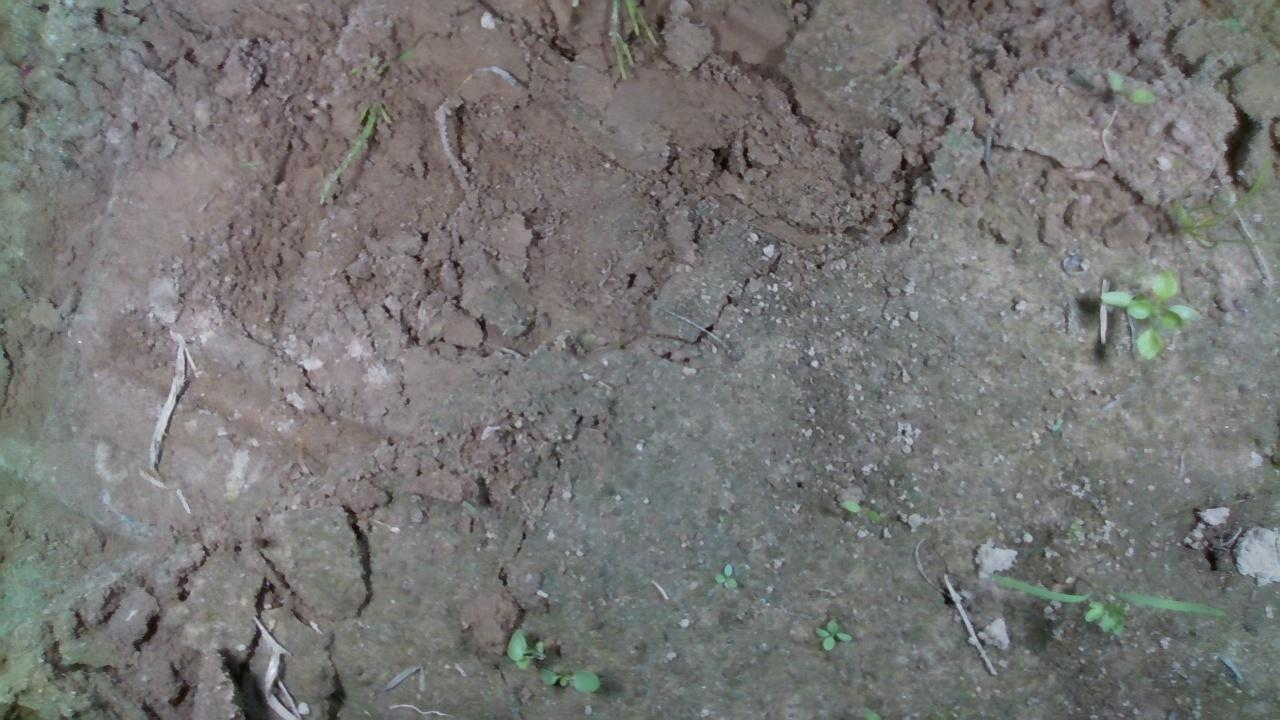weed: (1095, 265, 1200, 359), (1091, 66, 1159, 106), (533, 665, 601, 692), (810, 616, 852, 653), (836, 498, 886, 523), (710, 560, 738, 590)
